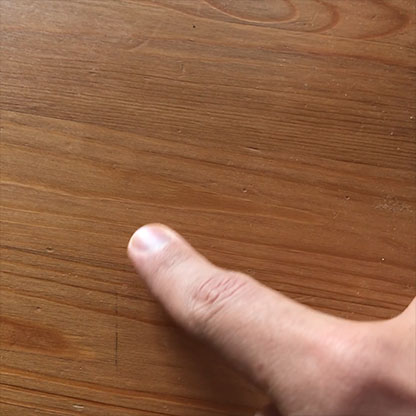fingertip: (122, 213, 189, 272)
